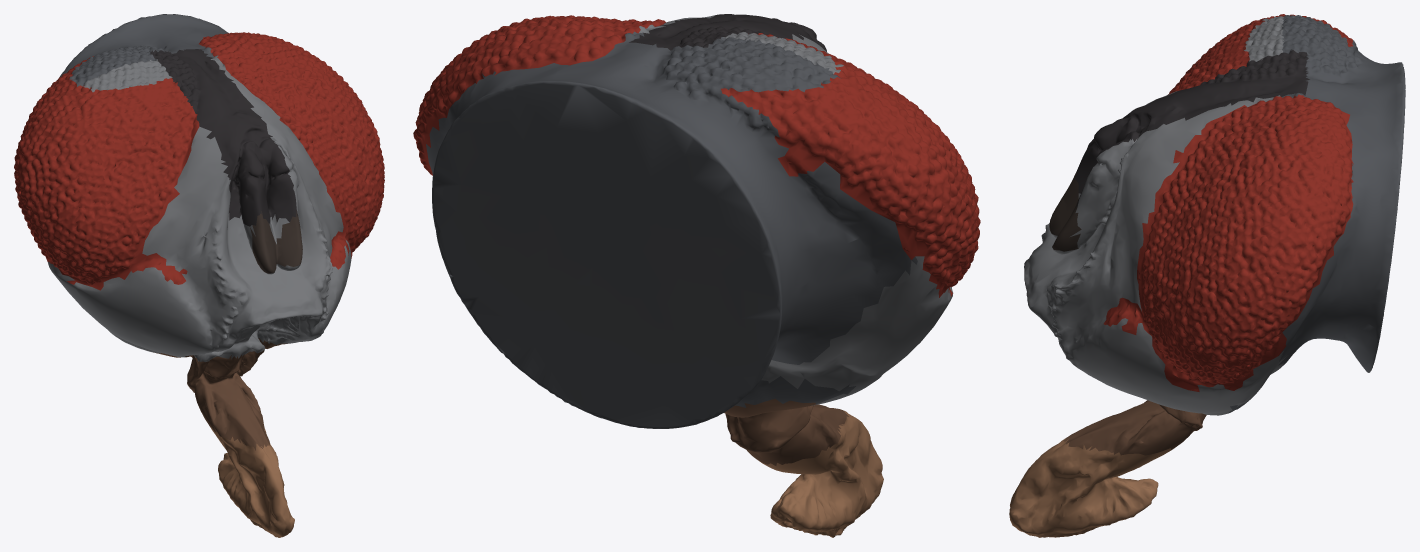
File: musca_domestica_head.glb
The picture shows the model from 3 angles, left to right: view 1: azimuth 30°, elevation 25°; view 2: azimuth 150°, elevation 25°; view 3: azimuth 270°, elevation 25°; orthographic projection. The views are drawn at different scales.
Parts seen in each view (by area): view 1: Musca_Cranium_Group, Musca_Compound_Eyes, Musca_Rostrum_Haustellum, Musca_Labellum, Musca_Antennae; view 2: Musca_Cranium_Group, Musca_Compound_Eyes, Musca_Labellum, Musca_Rostrum_Haustellum; view 3: Musca_Cranium_Group, Musca_Compound_Eyes, Musca_Labellum, Musca_Rostrum_Haustellum, Musca_Antennae.
Part boxes in pixels (left/top/right/bottom): Musca_Cranium_Group: left=48, top=14, right=351, bottom=361; Musca_Compound_Eyes: left=14, top=32, right=384, bottom=290; Musca_Rostrum_Haustellum: left=153, top=338, right=288, bottom=450; Musca_Labellum: left=210, top=426, right=294, bottom=537; Musca_Antennae: left=250, top=210, right=302, bottom=273; Musca_Cranium_Group: left=426, top=14, right=953, bottom=428; Musca_Compound_Eyes: left=413, top=15, right=980, bottom=297; Musca_Labellum: left=756, top=410, right=883, bottom=537; Musca_Rostrum_Haustellum: left=724, top=398, right=848, bottom=465; Musca_Cranium_Group: left=1024, top=15, right=1405, bottom=415; Musca_Compound_Eyes: left=1103, top=14, right=1353, bottom=391; Musca_Labellum: left=1009, top=438, right=1177, bottom=537; Musca_Rostrum_Haustellum: left=1063, top=400, right=1206, bottom=455; Musca_Antennae: left=1049, top=171, right=1081, bottom=251.
Bounding box in the file's own units: 4.6 × 5.07 × 3.77.
